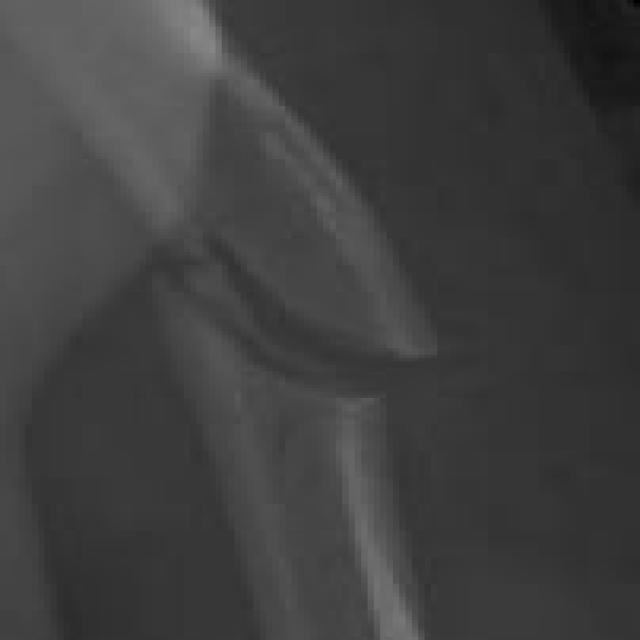fracture: (1, 0, 640, 640)
